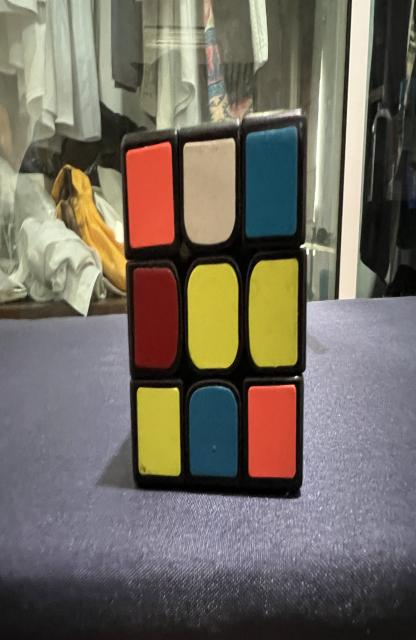Blue: (245, 127, 297, 238), (189, 385, 238, 477)
Orange: (126, 142, 175, 248), (248, 385, 297, 478)
Red: (133, 267, 179, 368)
White: (183, 138, 236, 245)
Yellow: (187, 263, 239, 368), (249, 258, 298, 367), (136, 387, 181, 477)
